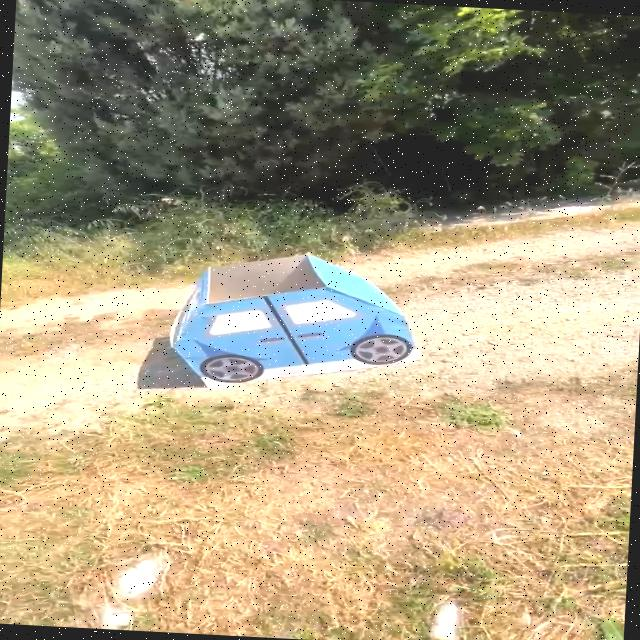blue_car: (148, 236, 452, 419)
